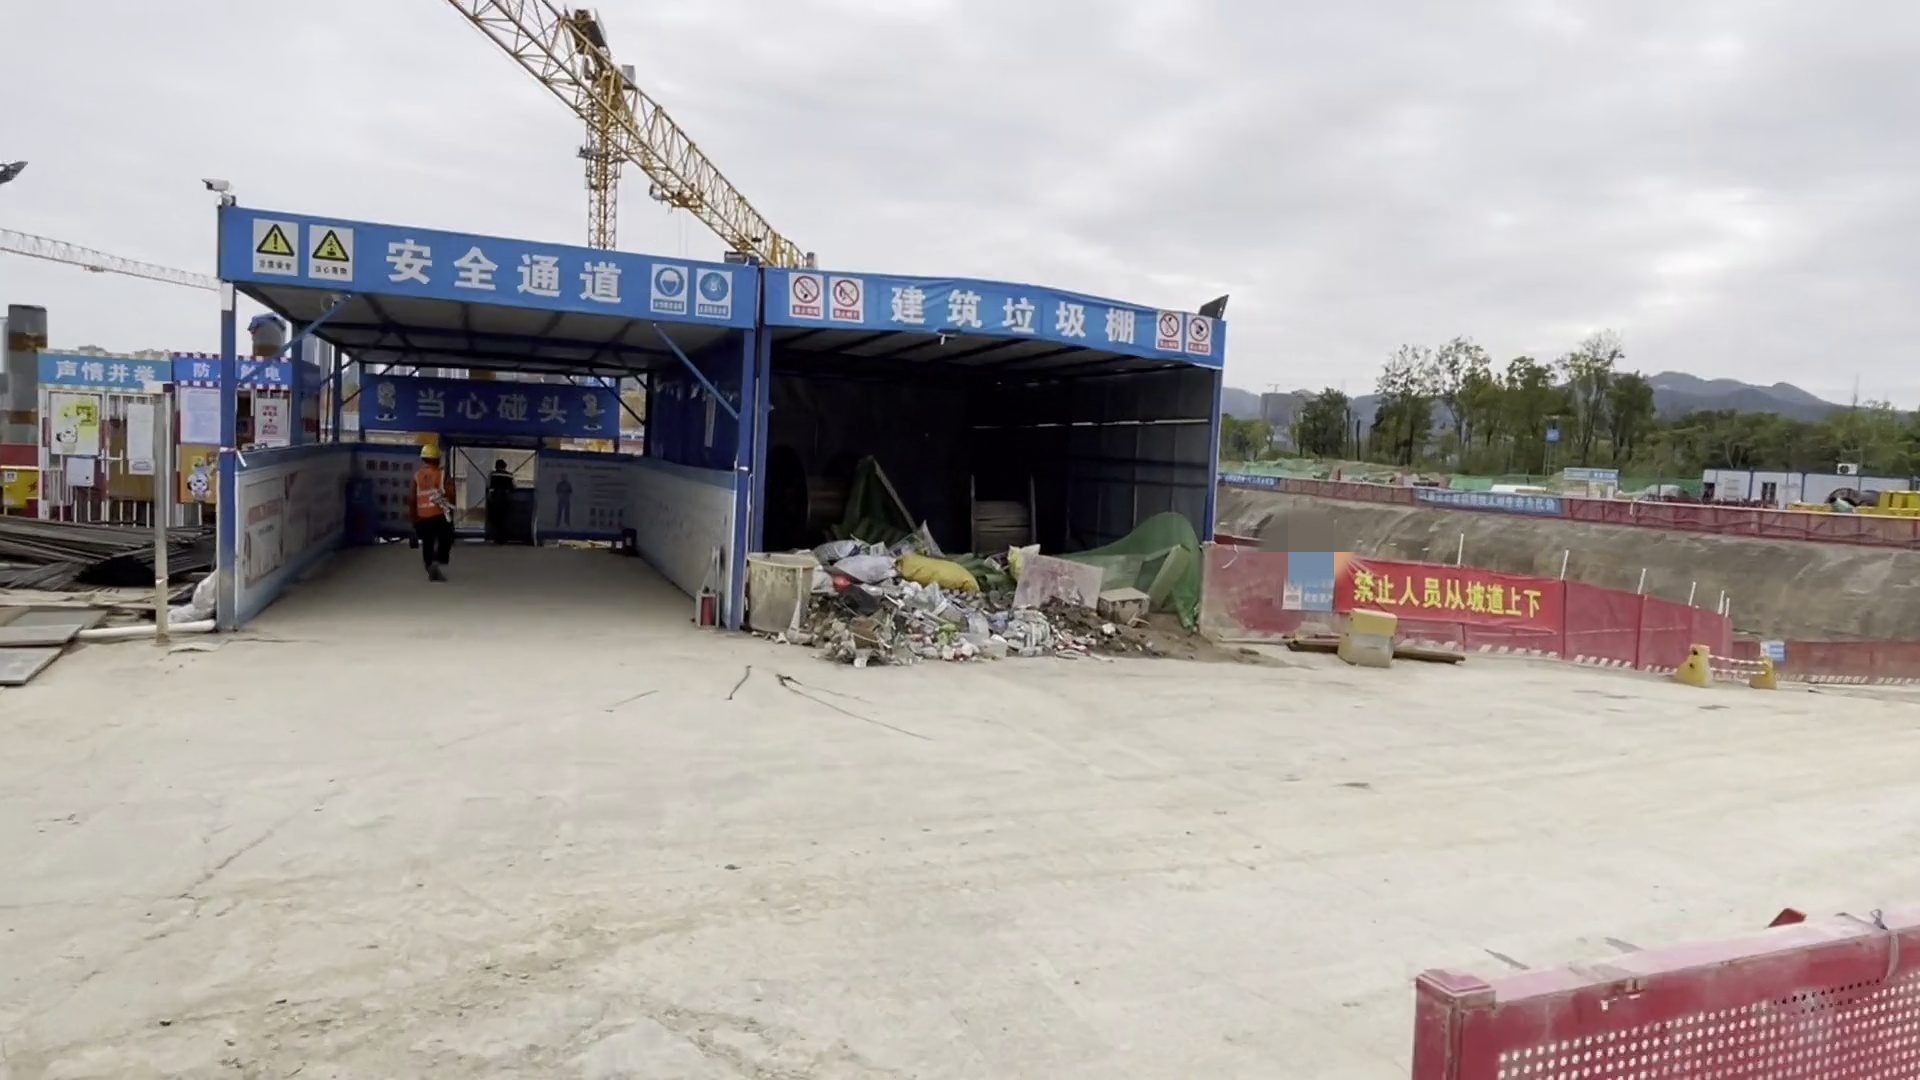helmet: (412, 442, 452, 468)
person: (404, 427, 465, 577), (482, 452, 516, 552)
slogan: (228, 205, 1217, 370), (1312, 555, 1549, 625), (369, 372, 593, 435), (52, 349, 262, 390), (1410, 484, 1561, 527)
vest: (406, 470, 456, 540)
